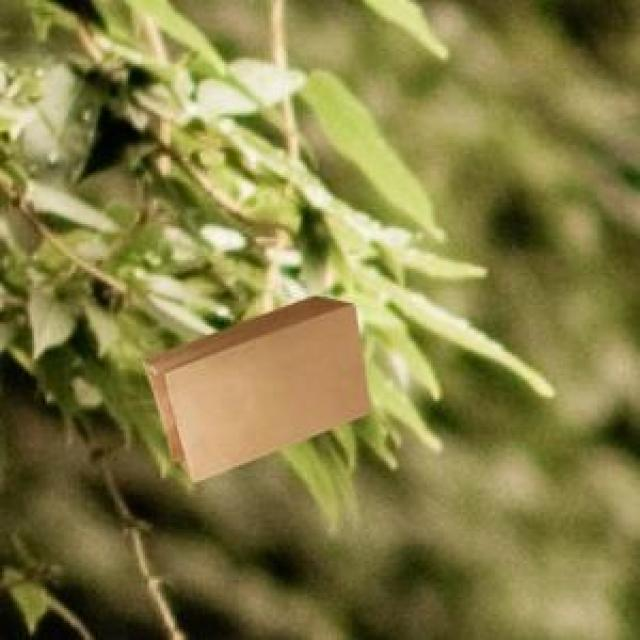paper: (139, 292, 367, 478)
